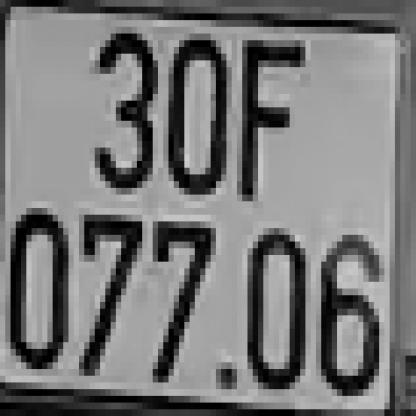0: (242, 222, 300, 389), (6, 208, 68, 362), (169, 40, 221, 195)
3: (95, 27, 158, 194)
6: (316, 228, 374, 389)
7: (79, 208, 142, 369), (152, 214, 210, 376)
F: (232, 41, 300, 202)
